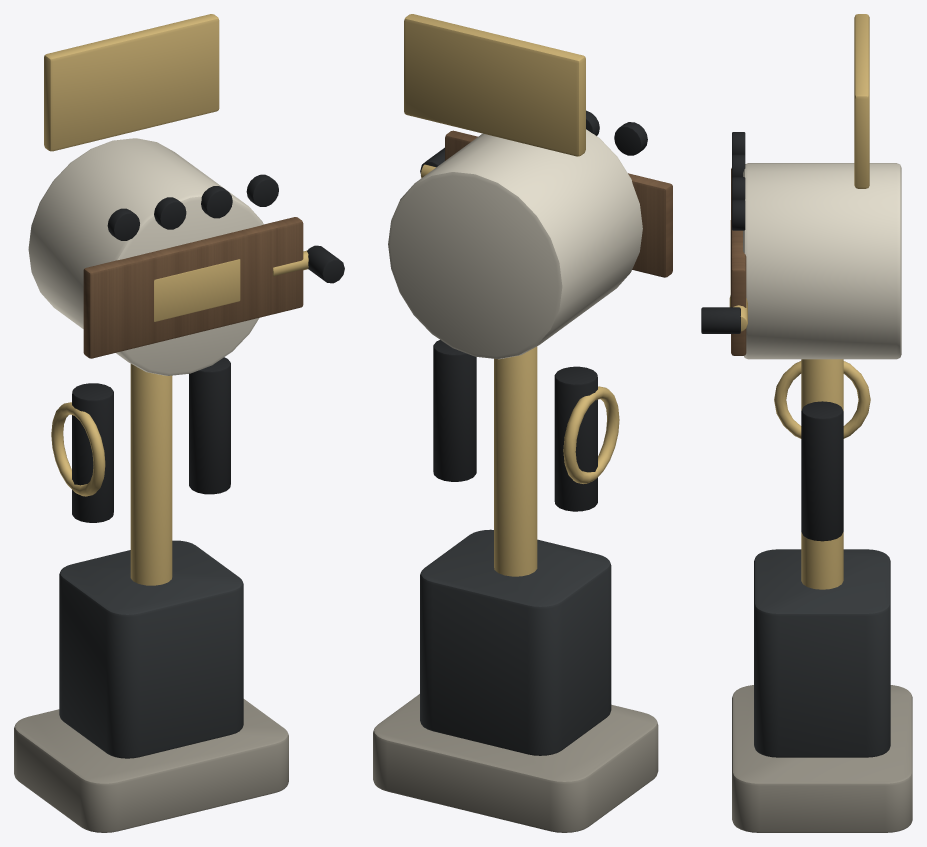
Rendered from ball_washer_country_club.glb.
3 renders of one model, left to right at view 1: azimuth 30°, elevation 25°; view 2: azimuth 150°, elevation 25°; view 3: azimuth 270°, elevation 25°, orthographic. The views are drawn at different scales.
Visible parts, largest first — view 1: BallWasher_WasteBin, BallWasher_Drum, BallWasher_Base, BallWasher_Sign, BallWasher_WalnutBand, BallWasher_Post, BallWasher_ClubBrush_1, BallWasher_ClubBrush_-1, BallWasher_BrassCrest, BallWasher_TowelRing, BallWasher_CrankGrip, BallWasher_Port_4 (+3 smaller); view 2: BallWasher_Drum, BallWasher_WasteBin, BallWasher_Base, BallWasher_Sign, BallWasher_Post, BallWasher_ClubBrush_1, BallWasher_ClubBrush_-1, BallWasher_WalnutBand, BallWasher_TowelRing, BallWasher_Port_1; view 3: BallWasher_Drum, BallWasher_WasteBin, BallWasher_Base, BallWasher_ClubBrush_1, BallWasher_Post, BallWasher_Sign, BallWasher_TowelRing, BallWasher_WalnutBand, BallWasher_CrankGrip, BallWasher_Port_4.
Part boxes in pixels (x1=…): BallWasher_WasteBin: x1=59, y1=540, x2=243, y2=758; BallWasher_Drum: x1=28, y1=138, x2=263, y2=375; BallWasher_Base: x1=14, y1=699, x2=288, y2=832; BallWasher_Sign: x1=44, y1=14, x2=219, y2=151; BallWasher_WalnutBand: x1=83, y1=217, x2=303, y2=358; BallWasher_Post: x1=130, y1=364, x2=172, y2=585; BallWasher_ClubBrush_1: x1=189, y1=357, x2=230, y2=494; BallWasher_ClubBrush_-1: x1=72, y1=383, x2=113, y2=522; BallWasher_BrassCrest: x1=154, y1=259, x2=240, y2=321; BallWasher_TowelRing: x1=51, y1=402, x2=105, y2=496; BallWasher_CrankGrip: x1=307, y1=245, x2=344, y2=283; BallWasher_Port_4: x1=246, y1=174, x2=278, y2=206; BallWasher_Drum: x1=388, y1=129, x2=642, y2=359; BallWasher_WasteBin: x1=420, y1=529, x2=611, y2=755; BallWasher_Base: x1=373, y1=694, x2=658, y2=832; BallWasher_Sign: x1=404, y1=14, x2=585, y2=156; BallWasher_Post: x1=494, y1=346, x2=537, y2=576; BallWasher_ClubBrush_1: x1=433, y1=340, x2=476, y2=481; BallWasher_ClubBrush_-1: x1=554, y1=366, x2=597, y2=511; BallWasher_WalnutBand: x1=445, y1=130, x2=672, y2=277; BallWasher_TowelRing: x1=563, y1=386, x2=619, y2=483; BallWasher_Port_1: x1=614, y1=122, x2=647, y2=155; BallWasher_Drum: x1=743, y1=163, x2=901, y2=359; BallWasher_WasteBin: x1=754, y1=549, x2=890, y2=757; BallWasher_Base: x1=732, y1=685, x2=912, y2=832; BallWasher_ClubBrush_1: x1=801, y1=401, x2=843, y2=541; BallWasher_Post: x1=801, y1=359, x2=843, y2=589; BallWasher_Sign: x1=854, y1=14, x2=869, y2=188; BallWasher_TowelRing: x1=774, y1=361, x2=870, y2=438; BallWasher_WalnutBand: x1=731, y1=168, x2=746, y2=355; BallWasher_CrankGrip: x1=701, y1=307, x2=740, y2=333; BallWasher_Port_4: x1=732, y1=199, x2=745, y2=230.
Size of what is drawn, in the model's own units: 0.4544 by 1.32 by 0.3456.
6 materials, 1 textured.
